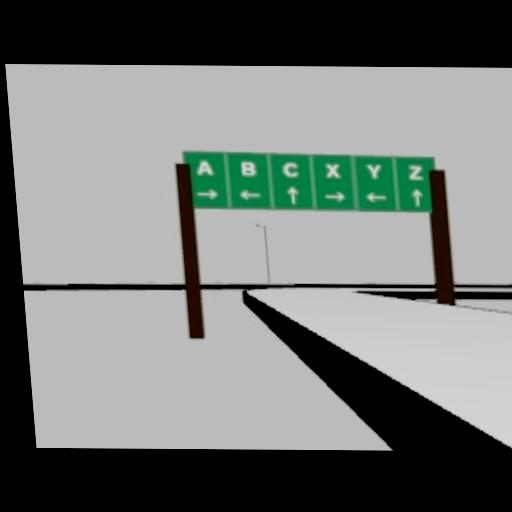A: (194, 158, 213, 174)
B: (239, 161, 256, 175)
C: (281, 161, 300, 177)
Left: (238, 189, 261, 199), (365, 192, 387, 202)
Right: (195, 188, 218, 198), (321, 191, 344, 201)
Straight: (411, 188, 422, 206), (287, 186, 298, 203)
X: (324, 163, 339, 177)
Y: (364, 162, 383, 178)
Z: (407, 164, 422, 180)
